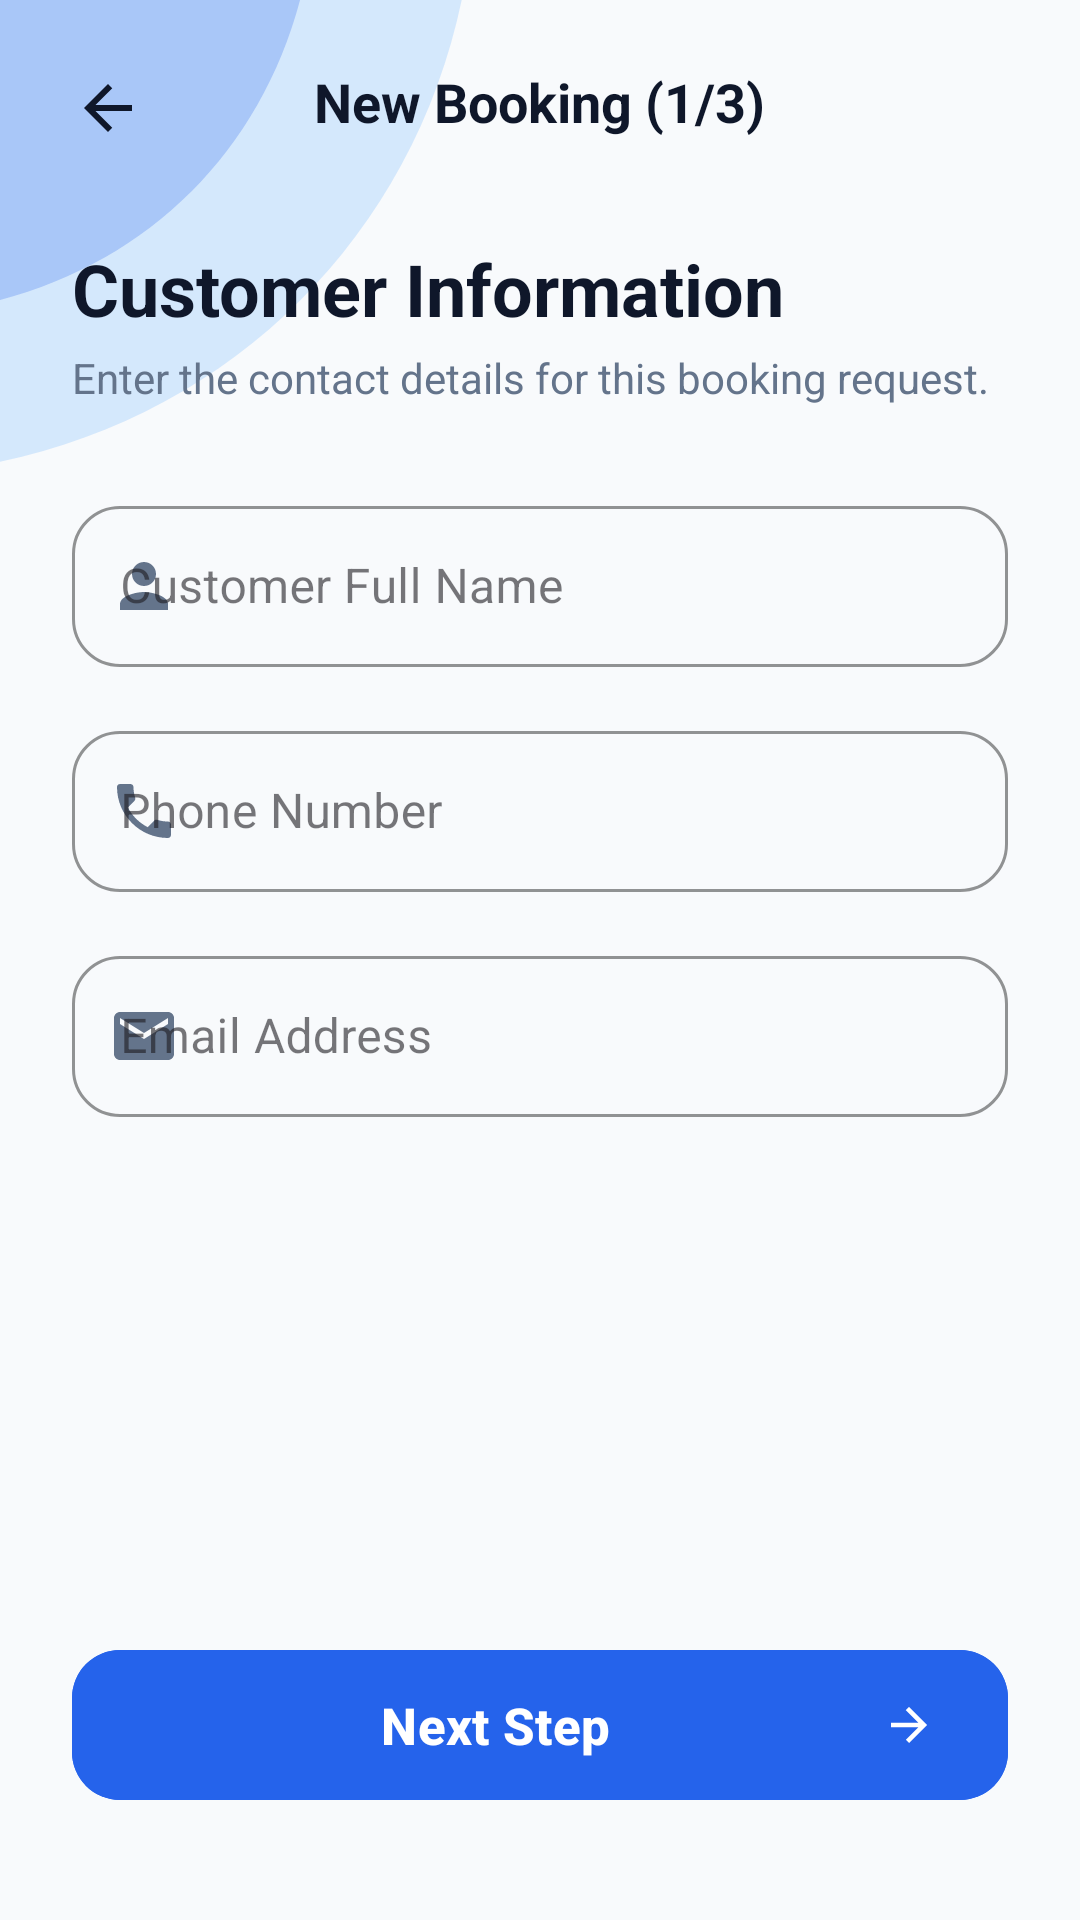

Icon click points for this 1080×1920 phone screenshot, format point (x, y):
Back Button: point (108, 108)
